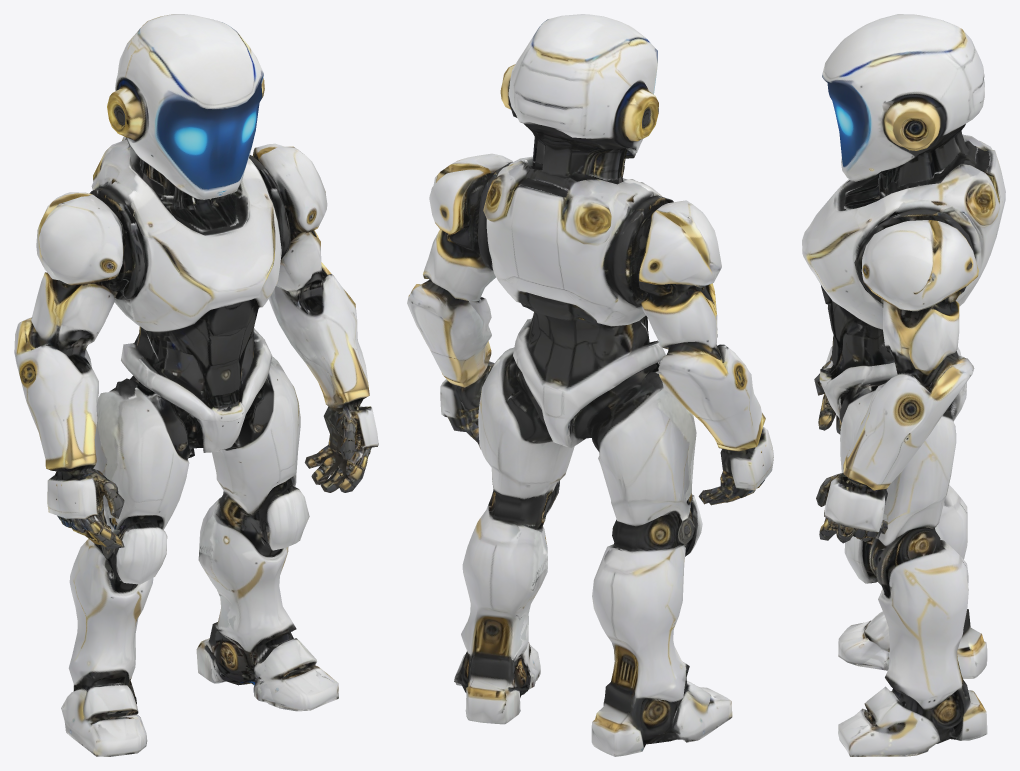
The model's file is robot.glb.
3 views of the same model, side by side, from view 1: azimuth 30°, elevation 25°; view 2: azimuth 150°, elevation 25°; view 3: azimuth 270°, elevation 25° (orthographic).
Visible parts, largest first — view 1: Object_4; view 2: Object_4; view 3: Object_4.
Boxes of the visible parts, x1,y1,x2,y2 form: Object_4: [14, 14, 378, 756]; Object_4: [407, 14, 773, 756]; Object_4: [802, 14, 1005, 756].
Size of the model in its own units: 1.01 by 2 by 0.5476.
1 material, 1 textured.
